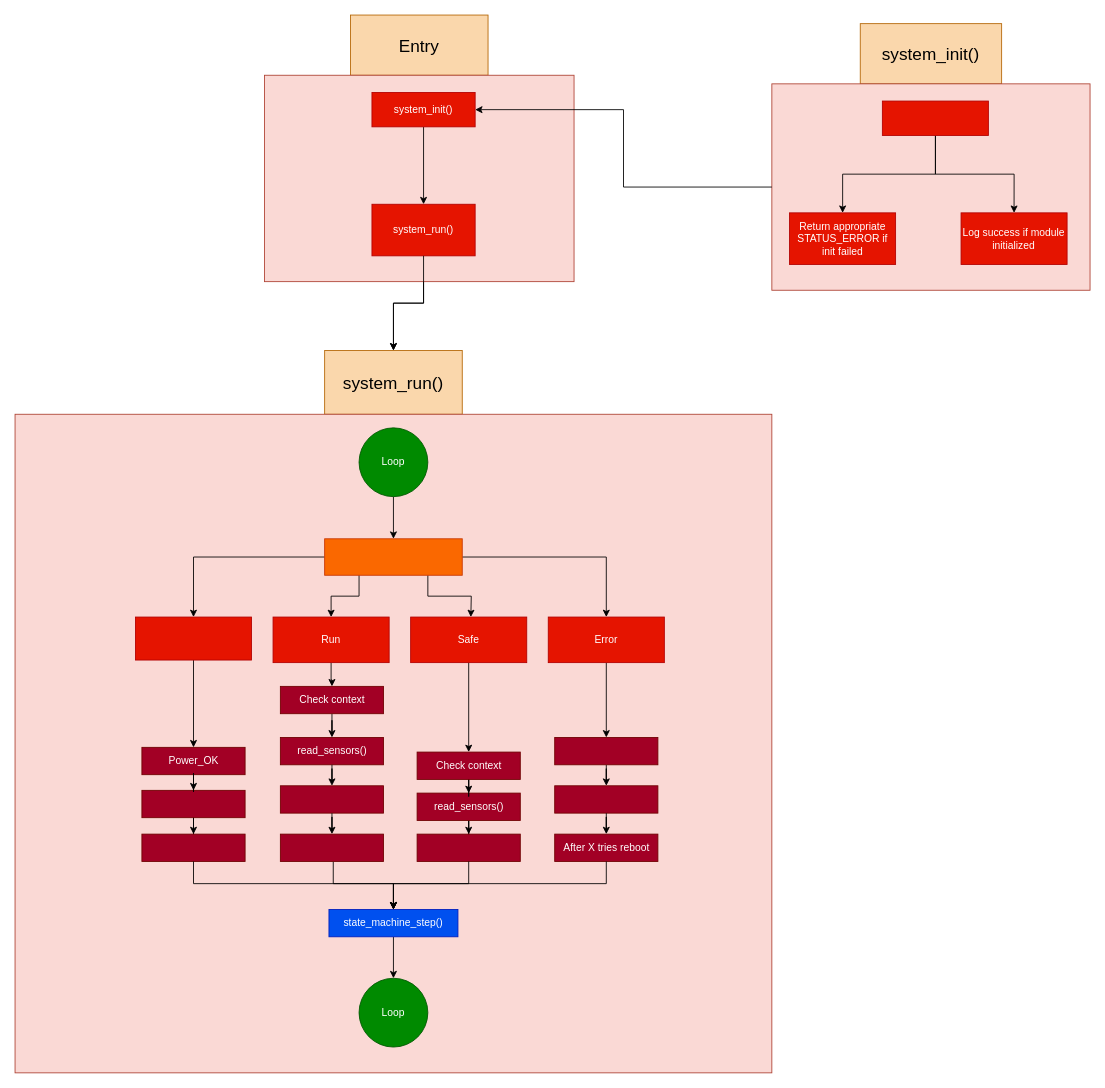
This 1105x1088 diagram has some shape labels left out. Here are the shapes that lost their labels. From the top down, the centre of each, then its label:
the point at 935,117: Initialize system modules
the point at 393,556: State
the point at 193,638: Check
the point at 606,751: Try to resolve
the point at 193,803: System_OK
the point at 332,799: get_location()
the point at 606,799: Send error to radio
the point at 193,847: Appropriate transition
the point at 332,847: send_data()
the point at 468,847: send_data_safe()
